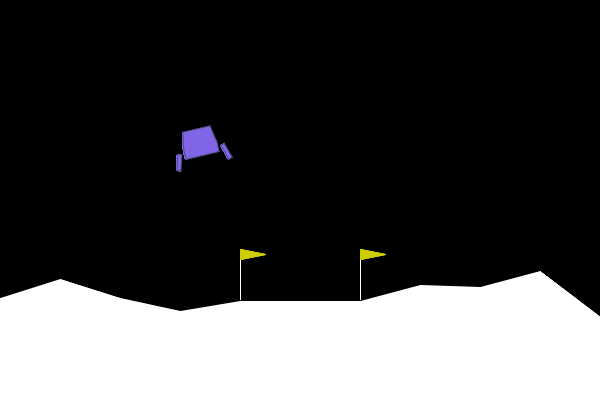lander: (166, 120, 234, 173)
